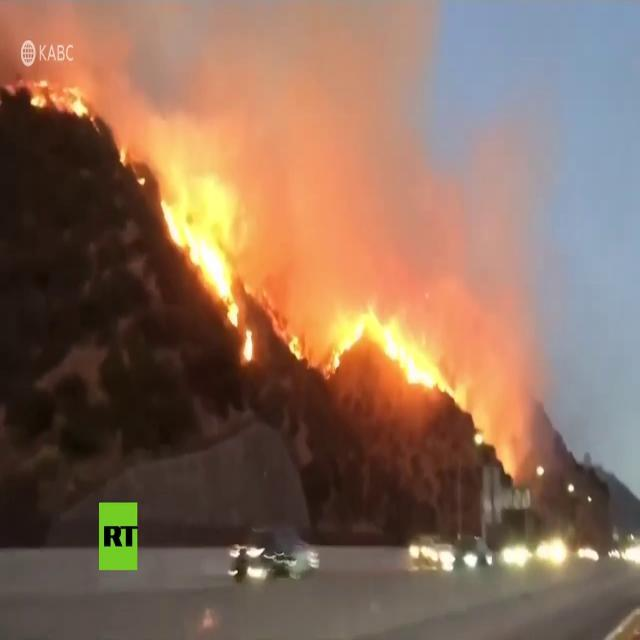Fire: (324, 310, 452, 394), (160, 198, 238, 321), (24, 76, 90, 122), (288, 333, 304, 362), (243, 327, 253, 363)
